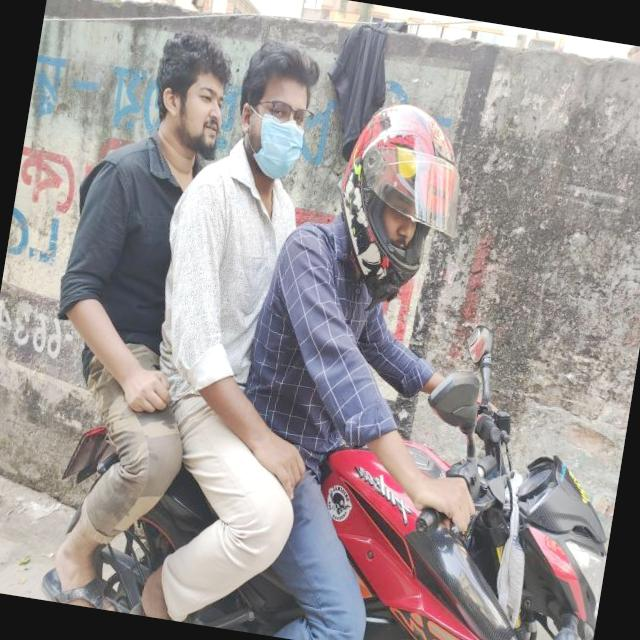motorcycle: (28, 274, 637, 640)
person: (206, 81, 508, 640), (112, 24, 384, 639), (7, 10, 266, 608)
rider_region: (13, 13, 640, 640)
